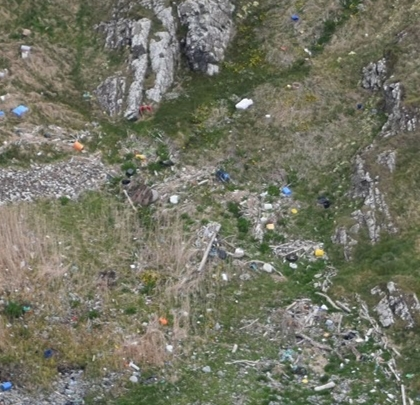scattered_barrel: (121, 307, 218, 392), (213, 232, 335, 284), (107, 143, 190, 213), (254, 172, 337, 236)
together_barrel: (272, 318, 372, 397)
white_in_green: (216, 80, 273, 129), (120, 82, 171, 127), (5, 26, 53, 70), (62, 127, 108, 167), (27, 330, 76, 367), (1, 90, 46, 127), (272, 1, 309, 35)
